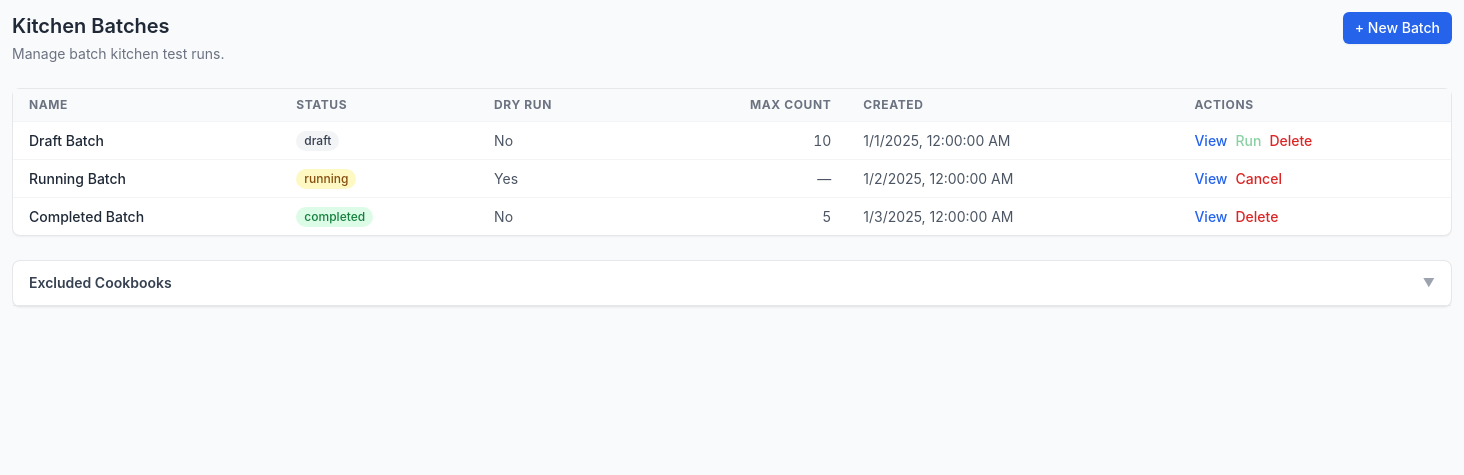
KitchenBatchesPage › ExcludedCookbooksSection renders when expanded
The width and height of the screenshot is (1464, 475).
Expected: the heading "Kitchen Batches" is shown, x1=12 y1=14 x2=170 y2=38
Step 1. Click the heading "Excluded Cookbooks" → (100, 283), box x1=29 y1=273 x2=172 y2=293
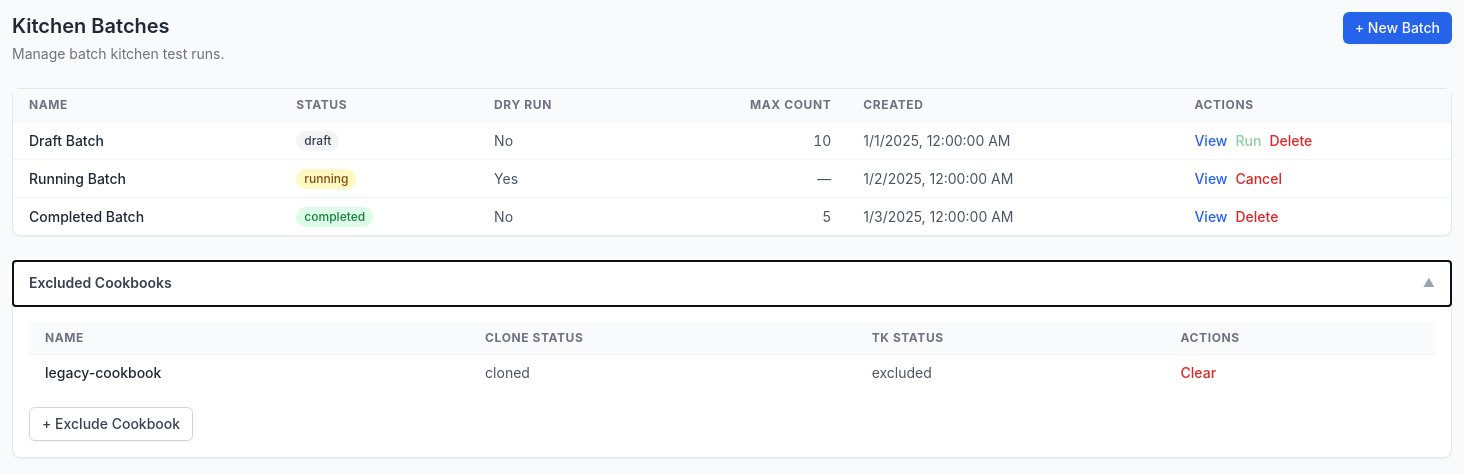
Now the text "legacy-cookbook" is shown, box x1=29 y1=354 x2=469 y2=391
Now the button "Clear" is shown, box x1=1180 y1=363 x2=1216 y2=383
Now the button "+ Exclude Cookbook" is shown, box x1=29 y1=407 x2=193 y2=441
